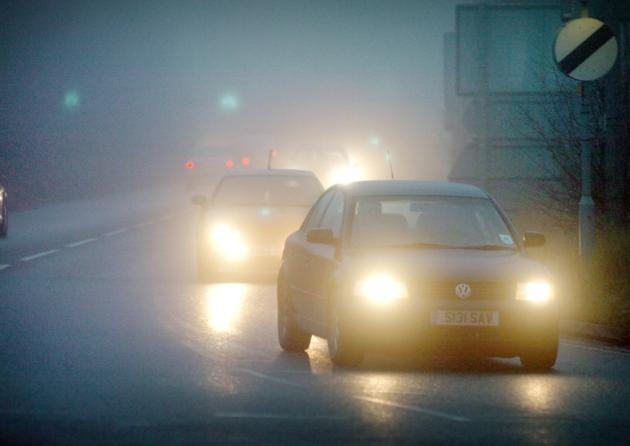car: (271, 176, 561, 372), (191, 166, 335, 281), (183, 144, 252, 189)
